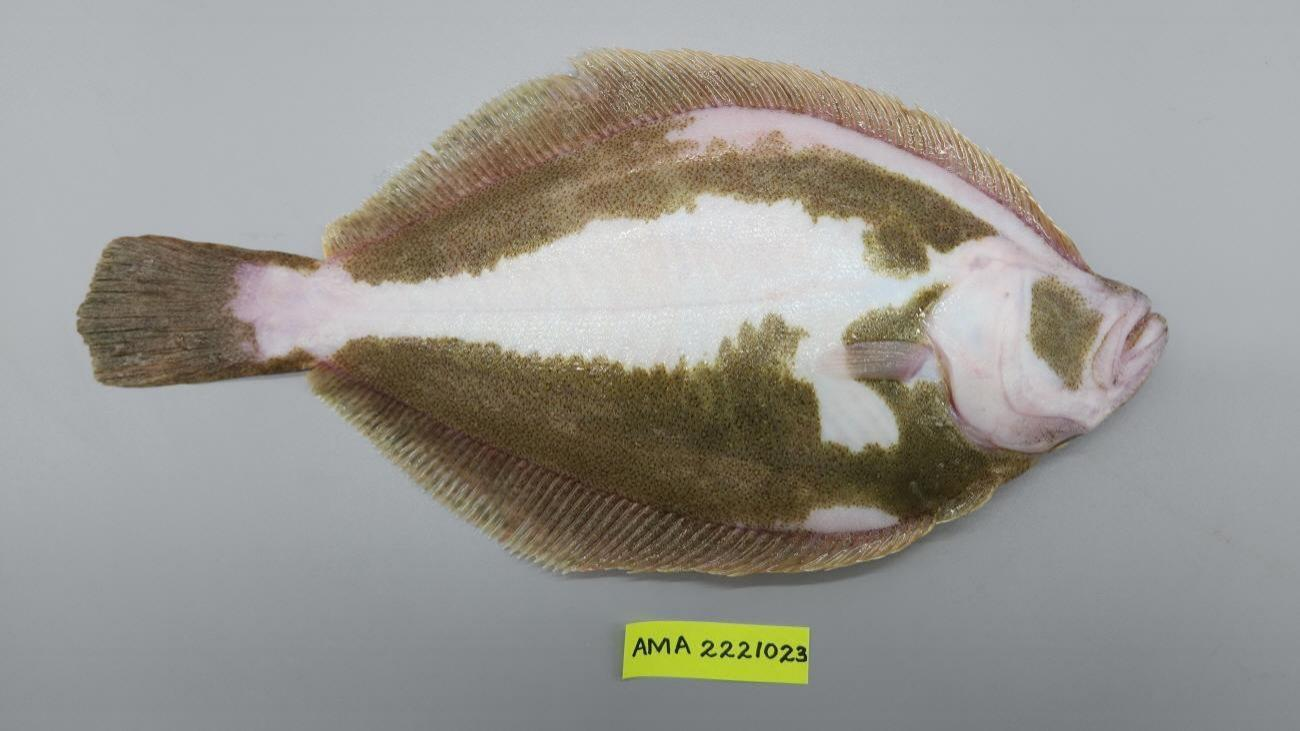MAFCH: (80, 235, 262, 385)
MAOUY: (74, 44, 1168, 580)
